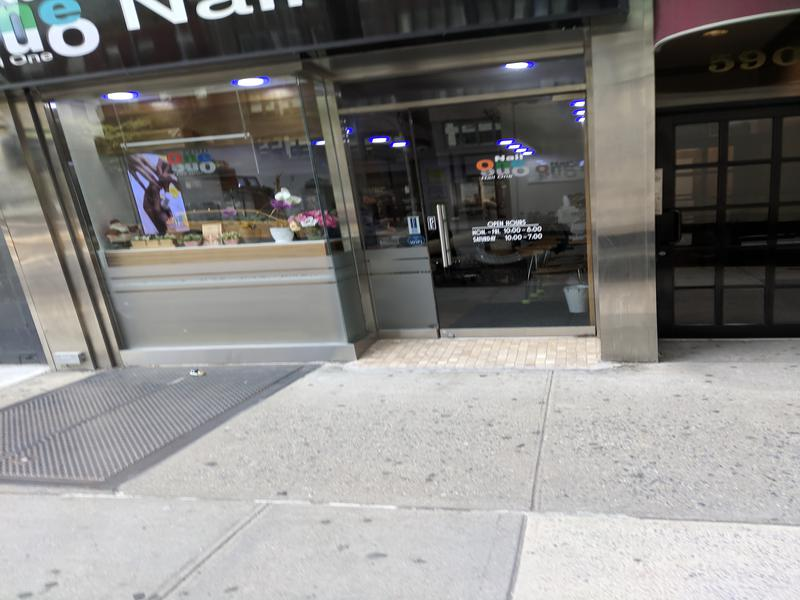door: (412, 83, 608, 350)
